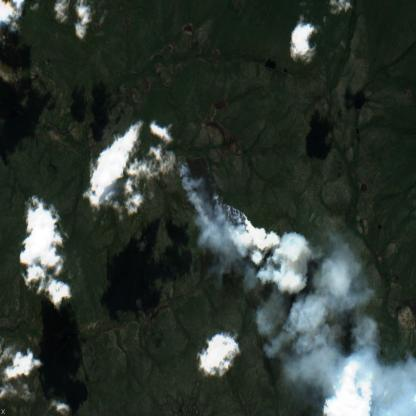fire: (179, 152, 257, 250)
